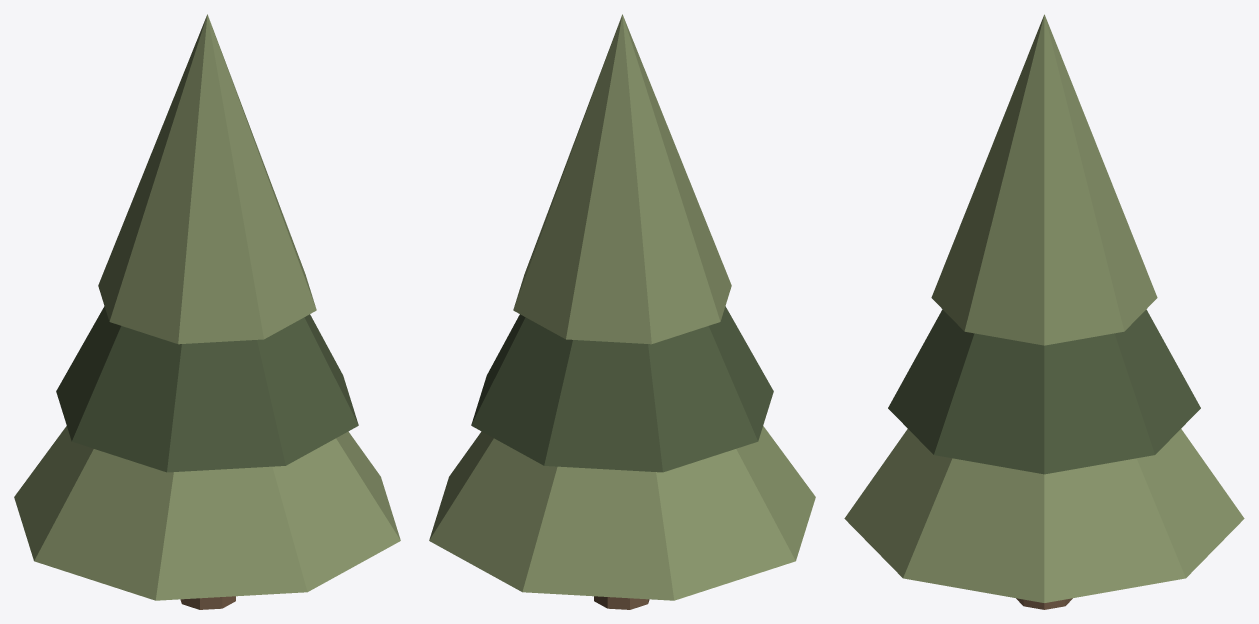
File: pine.glb
3 views of the same model, side by side, from view 1: azimuth 30°, elevation 25°; view 2: azimuth 150°, elevation 25°; view 3: azimuth 270°, elevation 25° (orthographic).
Visible parts, largest first — view 1: pine; view 2: pine; view 3: pine.
Part boxes in pixels (x1=…): pine: x1=14, y1=14, x2=400, y2=609; pine: x1=429, y1=14, x2=815, y2=609; pine: x1=844, y1=14, x2=1244, y2=609.
Bounding box in the file's own units: 2.3 × 3.7 × 2.3.
